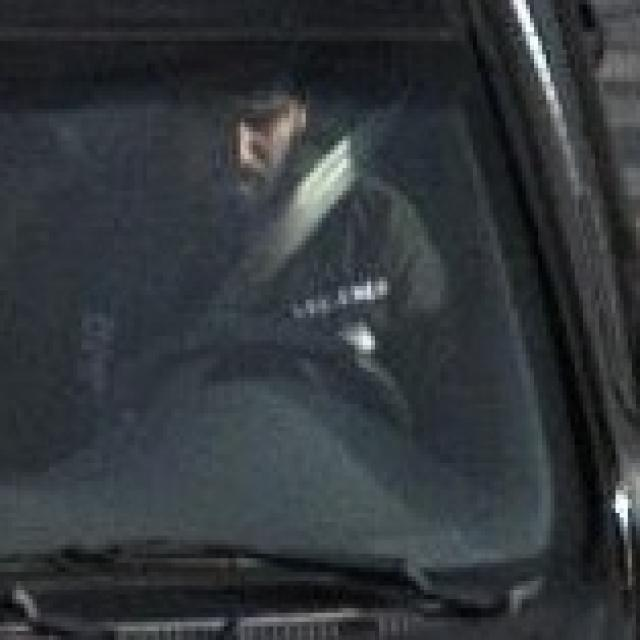windshield: (20, 16, 608, 617)
